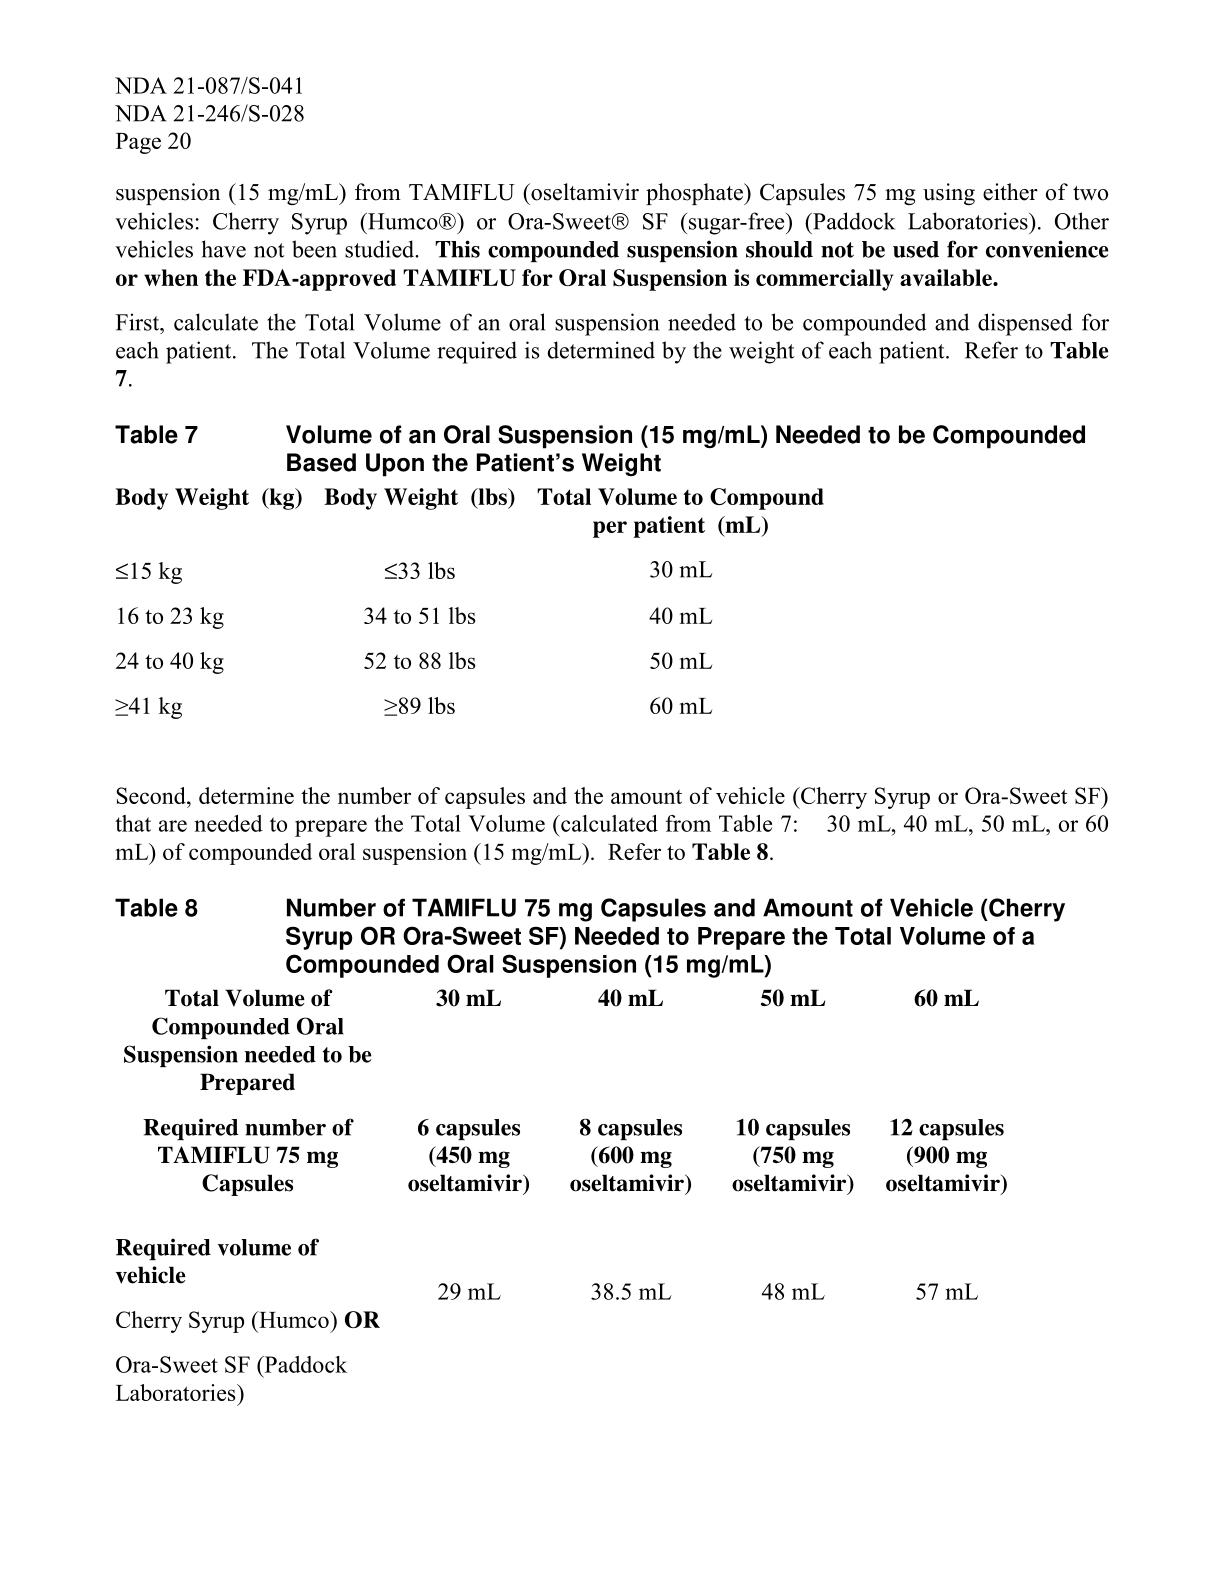nolines: (113, 982, 1014, 1410), (111, 483, 829, 719)
